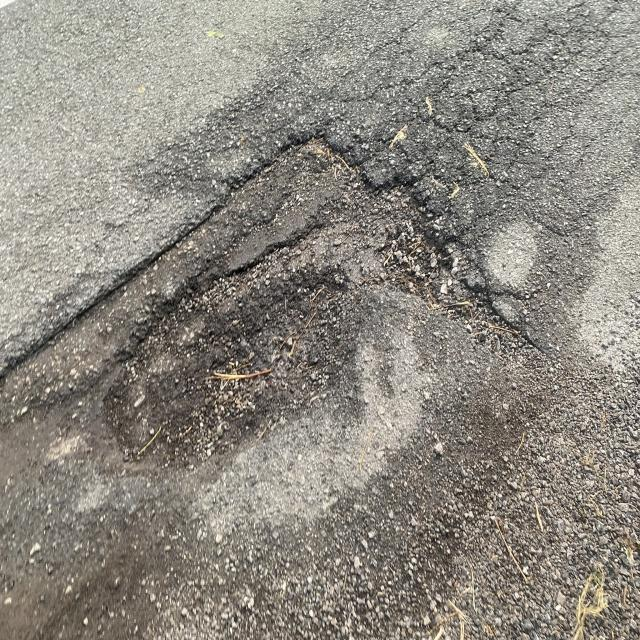Pothole: (42, 182, 476, 441)
